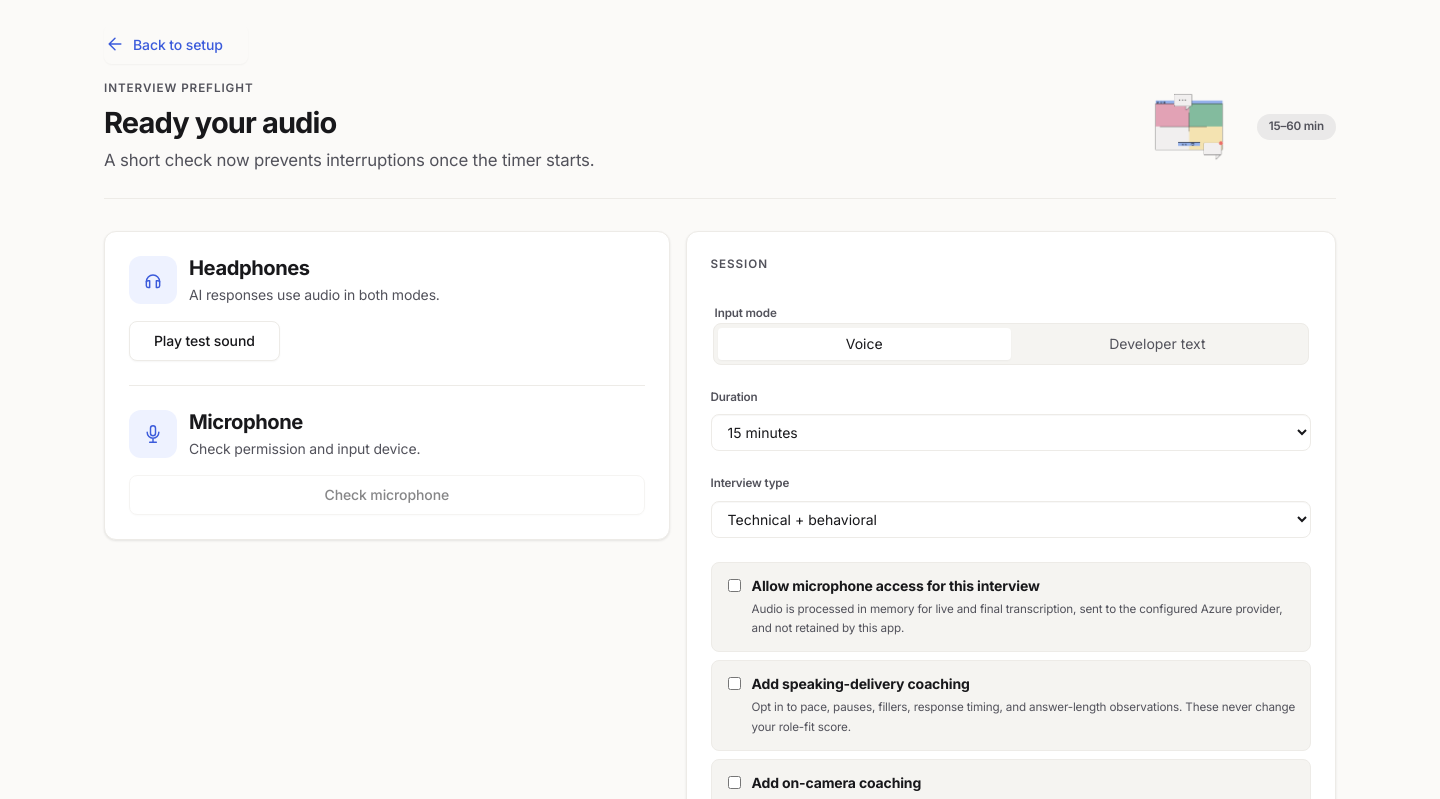
Test case: Dual transcription capture › passes one acquired media stream to both the transport and the recorder
The image size is (1440, 799).
Click the button "Play test sound".
click(204, 341)  # box x1=129 y1=321 x2=280 y2=361
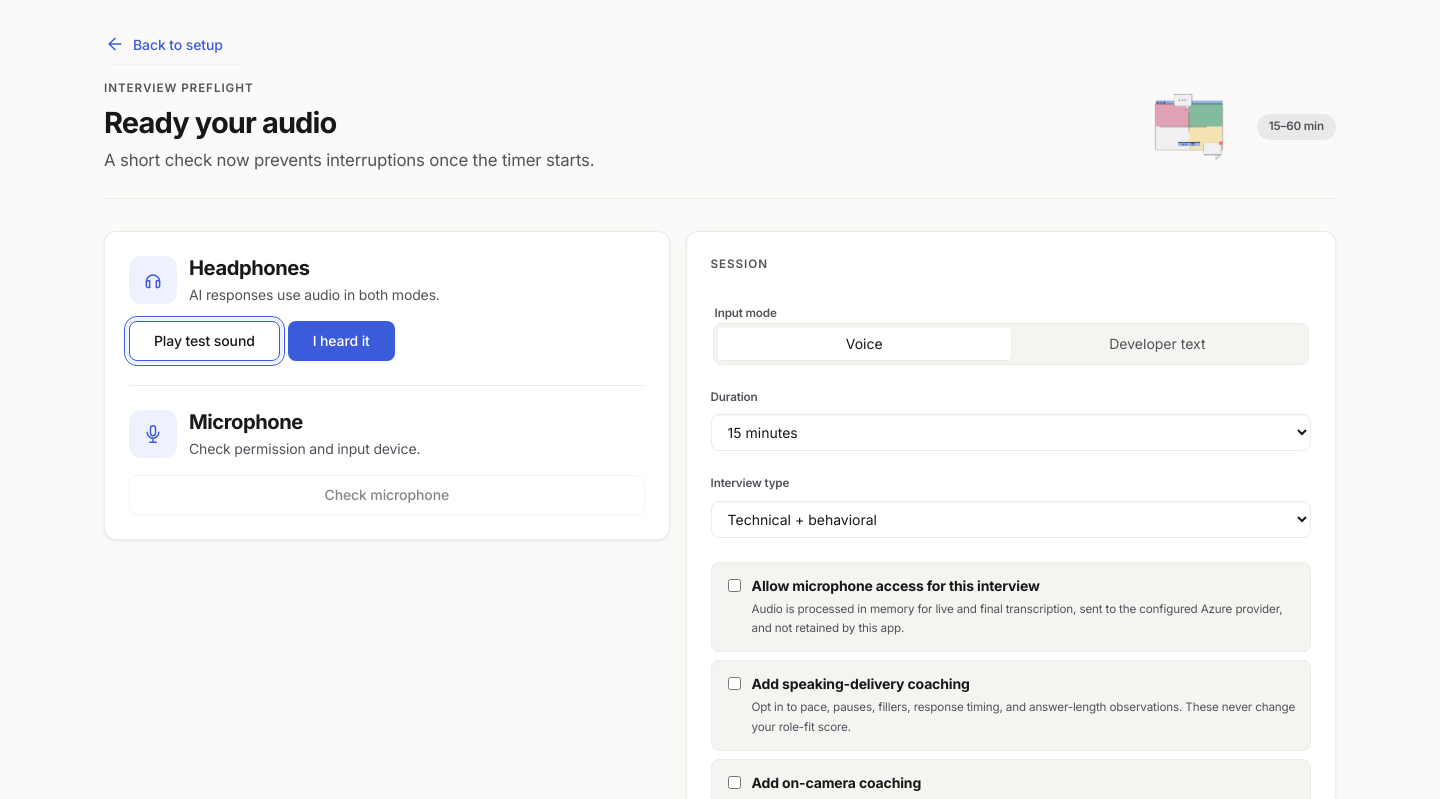
Click the button "I heard it".
click(341, 341)  # box x1=288 y1=321 x2=395 y2=361
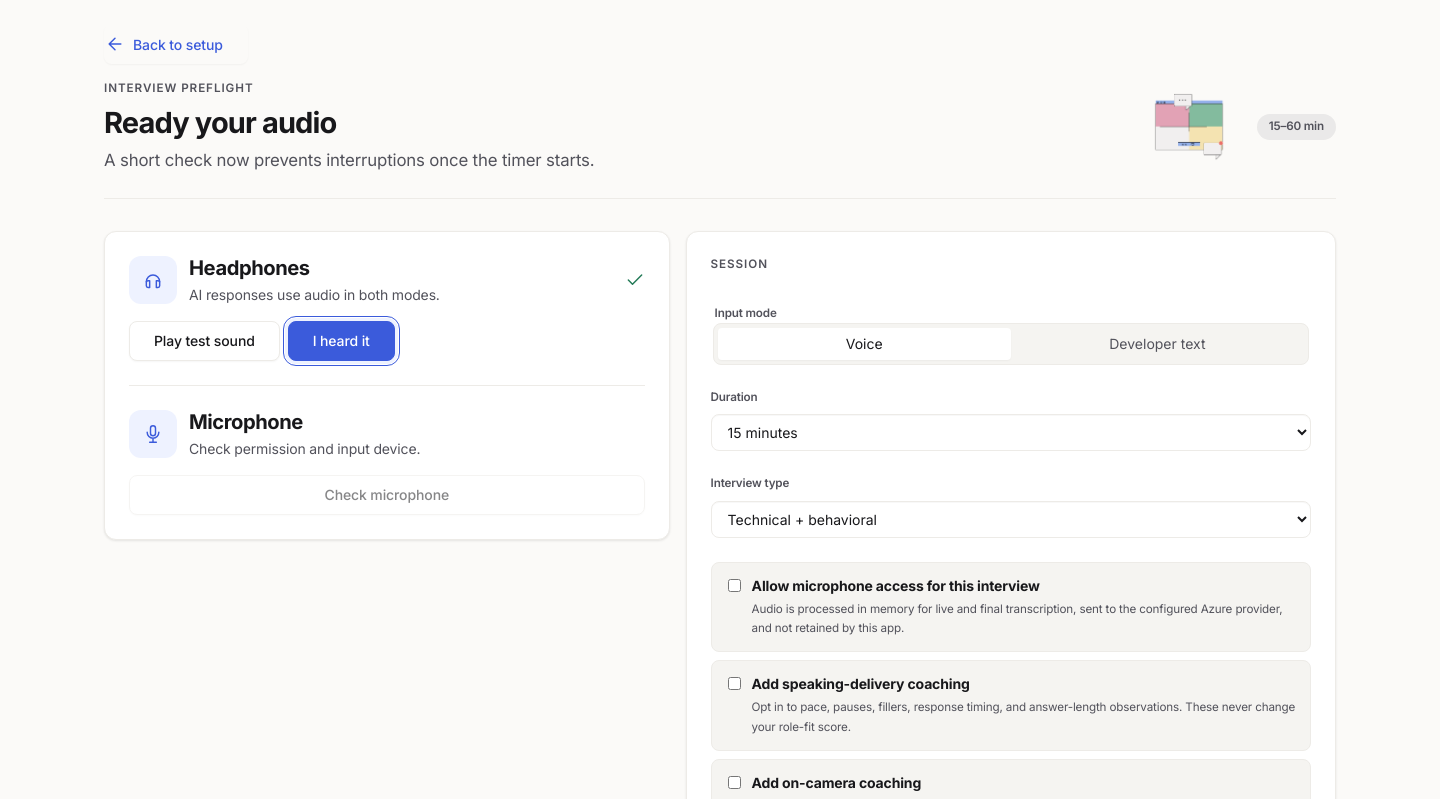
Click the checkbox labelled "Allow microphone access for this interview".
click(734, 585)  # box x1=728 y1=578 x2=741 y2=592
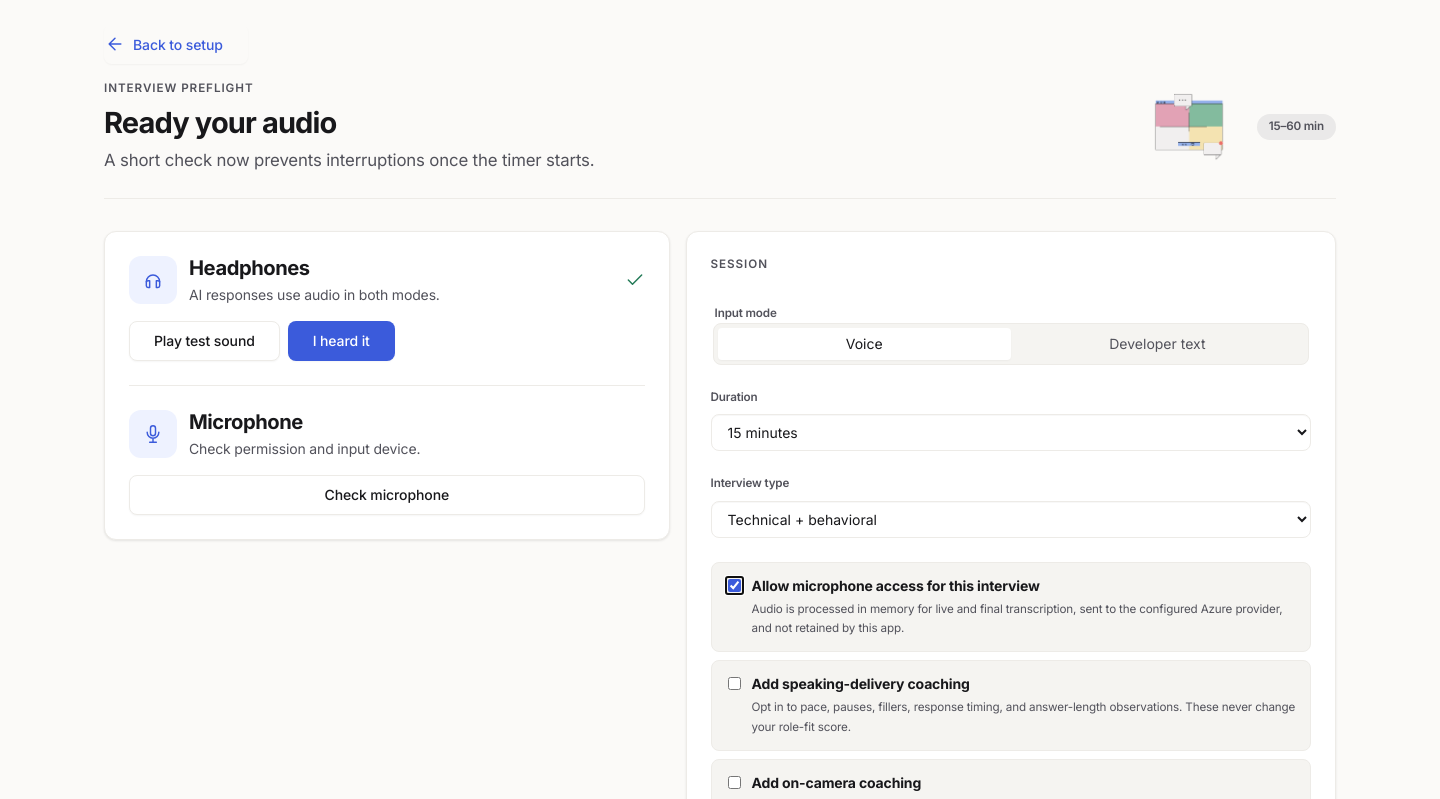
Click the button "Check microphone".
click(387, 495)  # box x1=129 y1=475 x2=645 y2=515
(page scrolled)
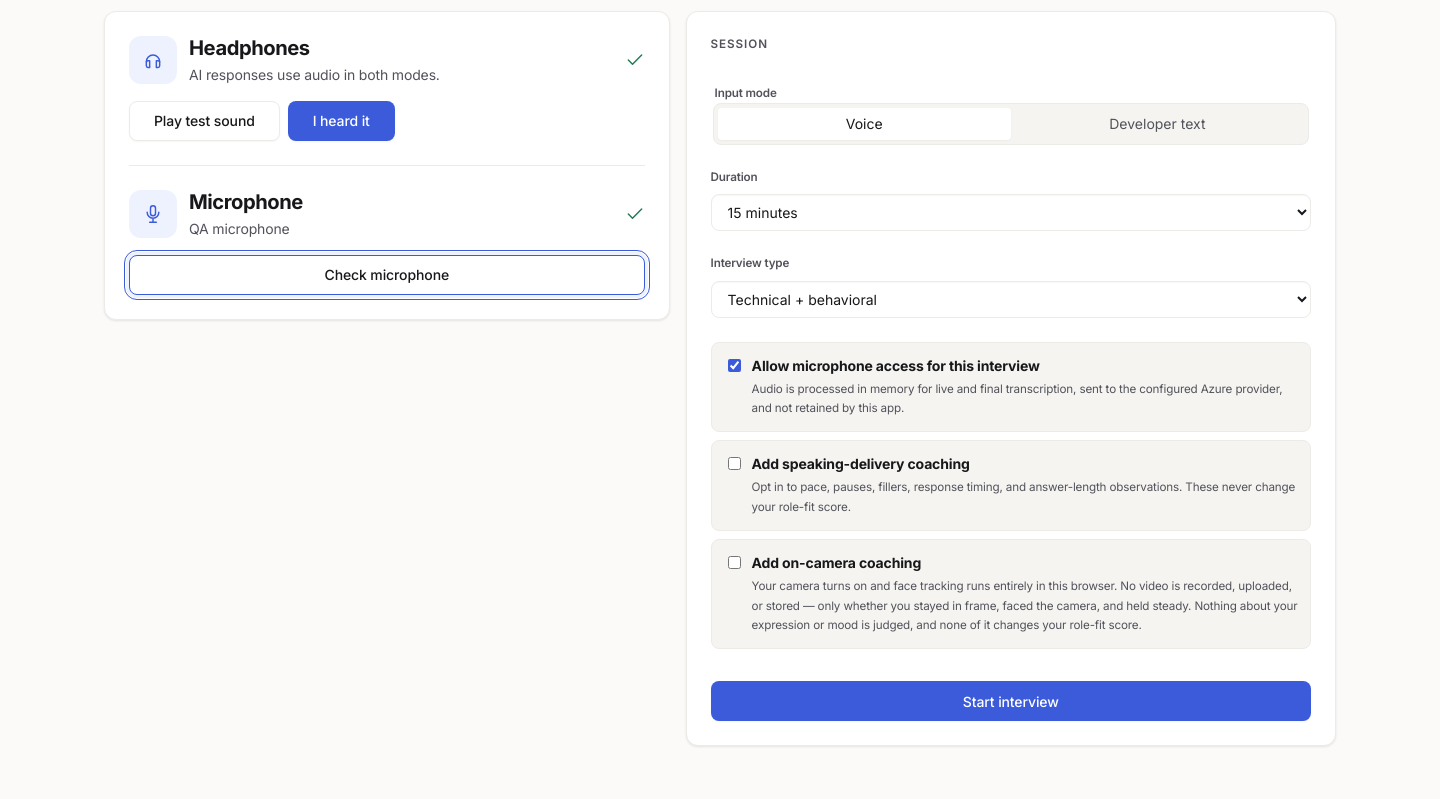
Expected: the text "QA microphone" is shown, x1=189 y1=220 x2=290 y2=237
Click the button "Start interview".
click(1011, 701)  # box x1=711 y1=681 x2=1311 y2=721
(page scrolled)
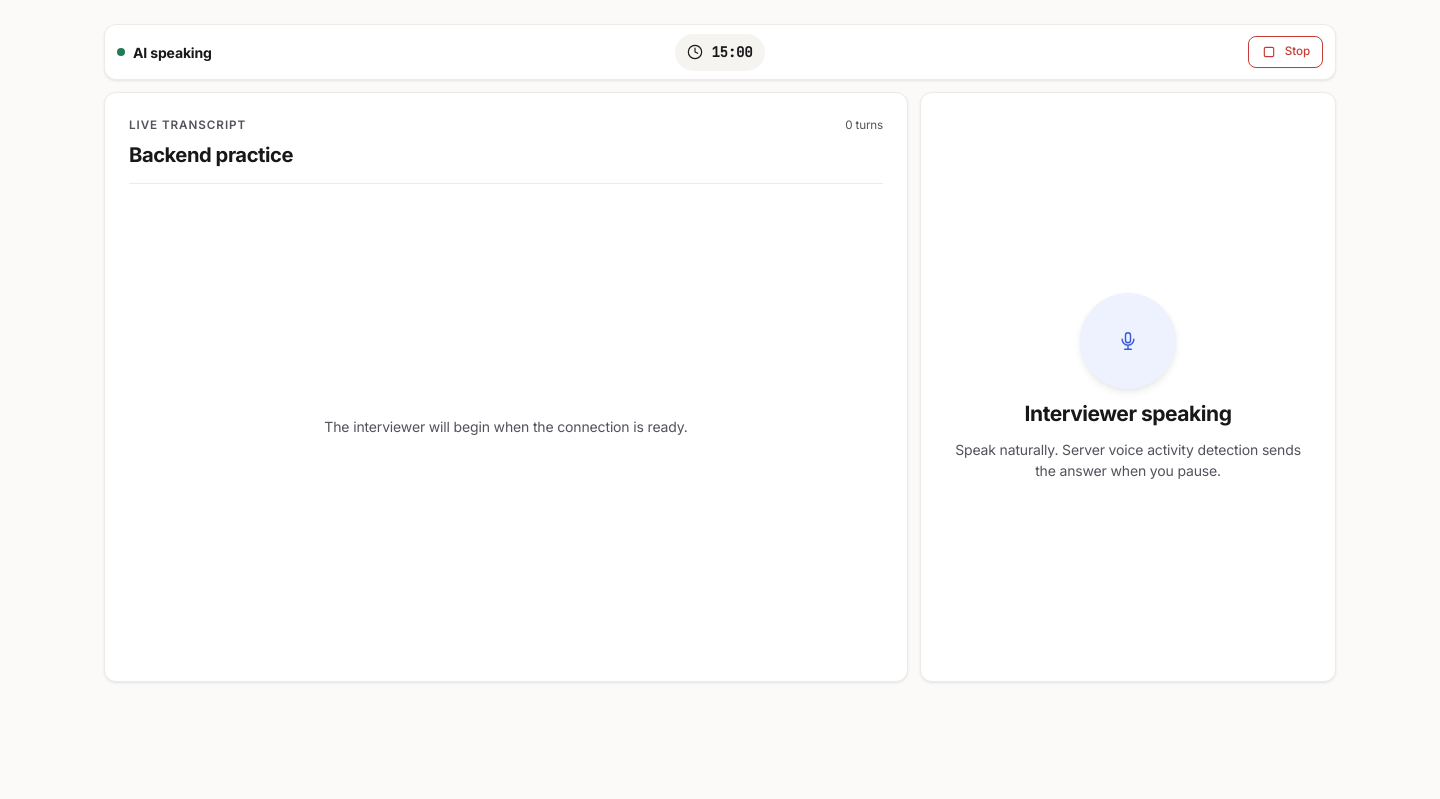
Expected: the element with class "is-connected" is shown, x1=117 y1=48 x2=125 y2=56
